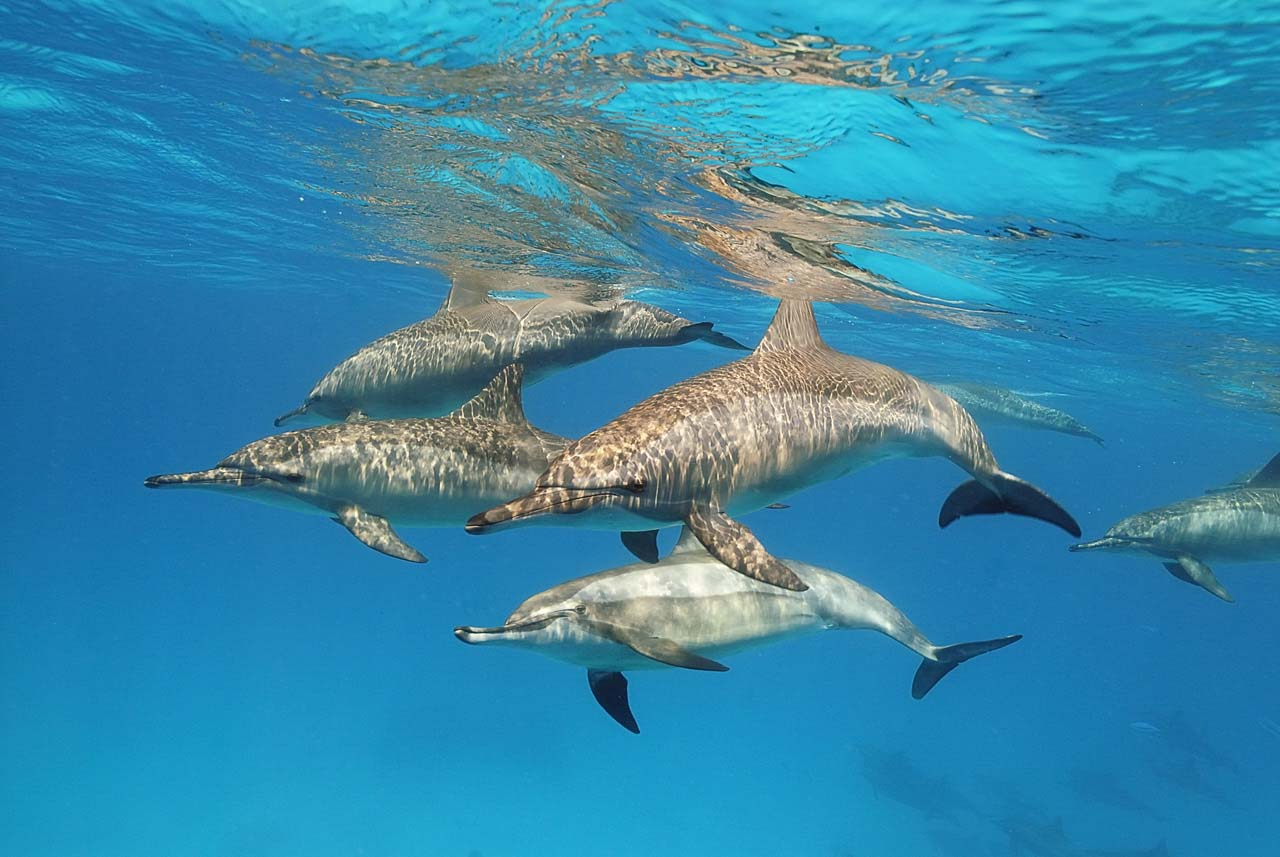dolphin: (492, 268, 1063, 566), (429, 532, 1009, 729), (122, 399, 615, 570), (233, 273, 732, 414)
